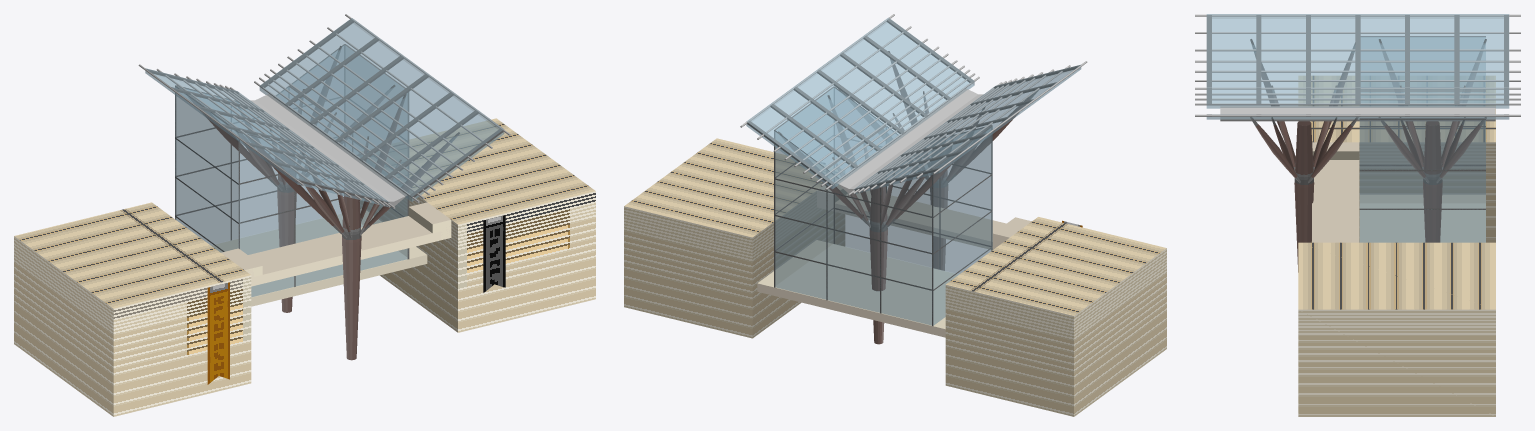
Rendered from scientia.glb.
3 renders of one model, left to right at view 1: azimuth 30°, elevation 25°; view 2: azimuth 150°, elevation 25°; view 3: azimuth 270°, elevation 25°, orthographic. The views are drawn at different scales.
Visible parts, largest first — view 1: right.001, base-ceiling, right, base, bridge.front, bridge-mid, frame1-r, base-ceiling-mid, base.texture, Cylinder, Plane.001, frame1-l (+15 smaller); view 2: right.001, base, right, base-ceiling, bridge-mid, base.texture, bridge.front, frame1-r, base-ceiling-mid, frame1-l, Cylinder.003, Cylinder.015 (+13 smaller); view 3: right, base-ceiling, base, right.001, bridge-mid, bridge.front, base-ceiling-mid, frame1-l, Cylinder, Cylinder.003, Cylinder.004, base.texture (+13 smaller).
Part boxes in pixels (<box>): right.001: <box>14,202,251,416</box>; base-ceiling: <box>145,18,504,206</box>; right: <box>360,118,595,332</box>; base: <box>175,45,408,296</box>; bridge.front: <box>221,202,451,286</box>; bridge-mid: <box>211,209,427,306</box>; frame1-r: <box>260,19,503,197</box>; base-ceiling-mid: <box>250,94,406,206</box>; base.texture: <box>175,44,409,286</box>; Cylinder: <box>342,182,361,360</box>; Plane.001: <box>207,282,229,384</box>; frame1-l: <box>147,69,389,203</box>; right.001: <box>945,217,1166,416</box>; base: <box>775,87,992,325</box>; right: <box>624,138,844,338</box>; base-ceiling: <box>746,17,1081,193</box>; bridge-mid: <box>757,240,958,337</box>; base.texture: <box>774,86,992,325</box>; bridge.front: <box>817,185,1031,249</box>; frame1-r: <box>747,18,973,184</box>; base-ceiling-mid: <box>837,88,986,193</box>; frame1-l: <box>854,65,1079,190</box>; Cylinder.003: <box>869,177,887,344</box>; Cylinder.015: <box>778,95,969,230</box>; right: <box>1298,242,1495,416</box>; base-ceiling: <box>1206,14,1509,119</box>; base: <box>1359,37,1485,242</box>; right.001: <box>1298,76,1495,242</box>; bridge-mid: <box>1360,195,1485,242</box>; bridge.front: <box>1312,142,1359,242</box>; base-ceiling-mid: <box>1220,106,1495,121</box>; frame1-l: <box>1206,15,1508,103</box>; Cylinder: <box>1294,121,1314,272</box>; Cylinder.003: <box>1423,121,1442,242</box>; Cylinder.004: <box>1195,14,1520,116</box>; base.texture: <box>1359,36,1485,209</box>.
Size of the model in its own units: 14 by 6.65 by 8.25.
14 materials, 9 textured.
